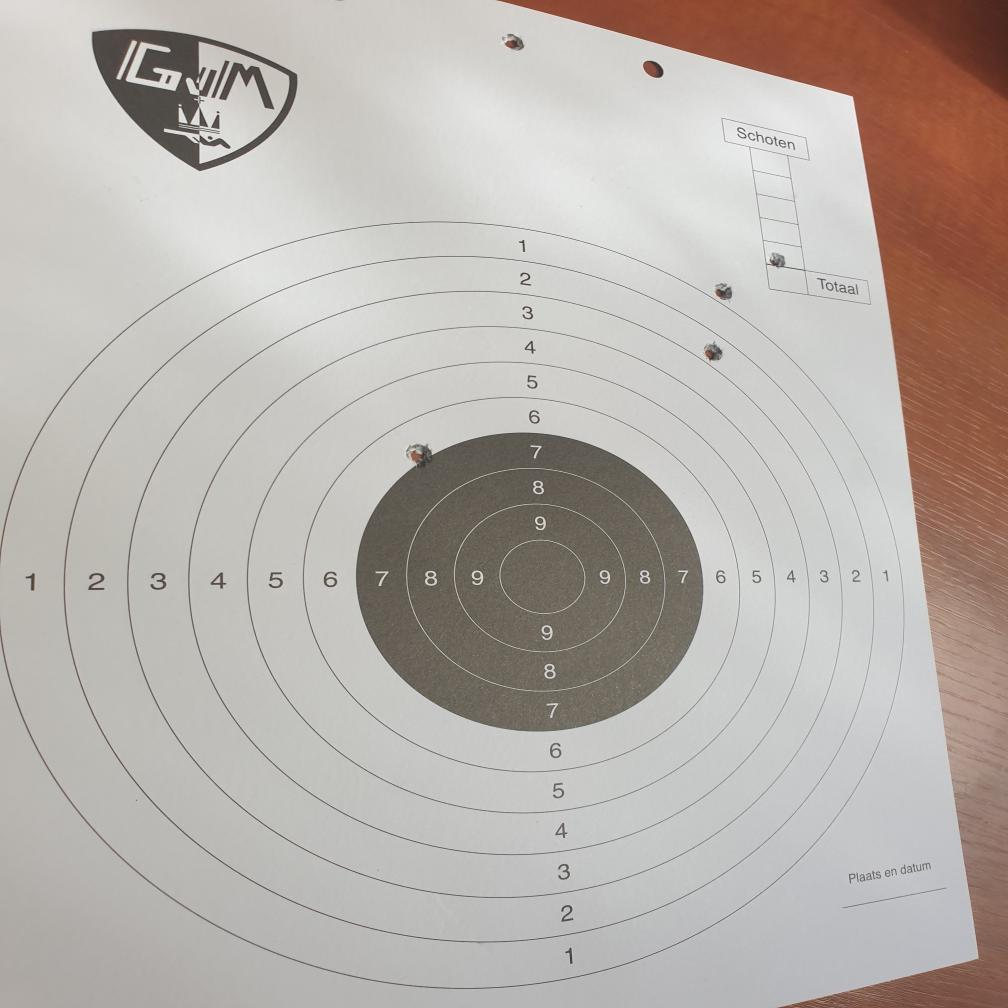0: (710, 281, 737, 303), (499, 32, 528, 52), (766, 250, 791, 270)
2: (701, 341, 726, 363)
7: (398, 441, 435, 469)
Target: (0, 213, 908, 990)
black_contour: (354, 430, 704, 732)
